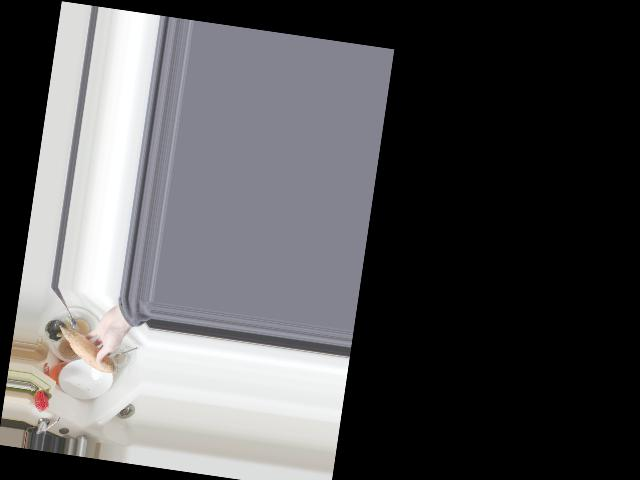sweet_potato: (55, 324, 121, 376)
